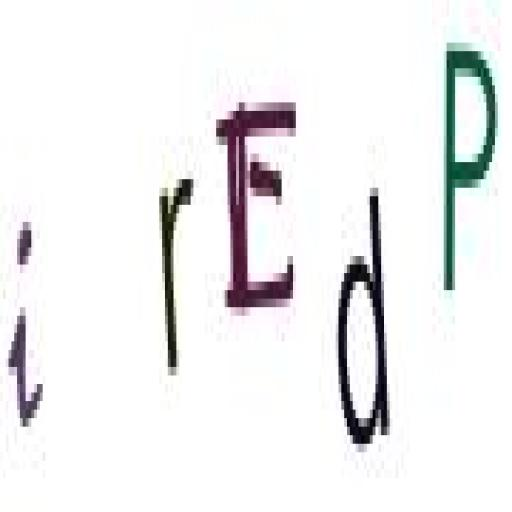E: (216, 82, 304, 329)
P: (439, 25, 500, 306)
d: (334, 183, 392, 454)
i: (2, 207, 49, 451)
r: (156, 158, 198, 394)
